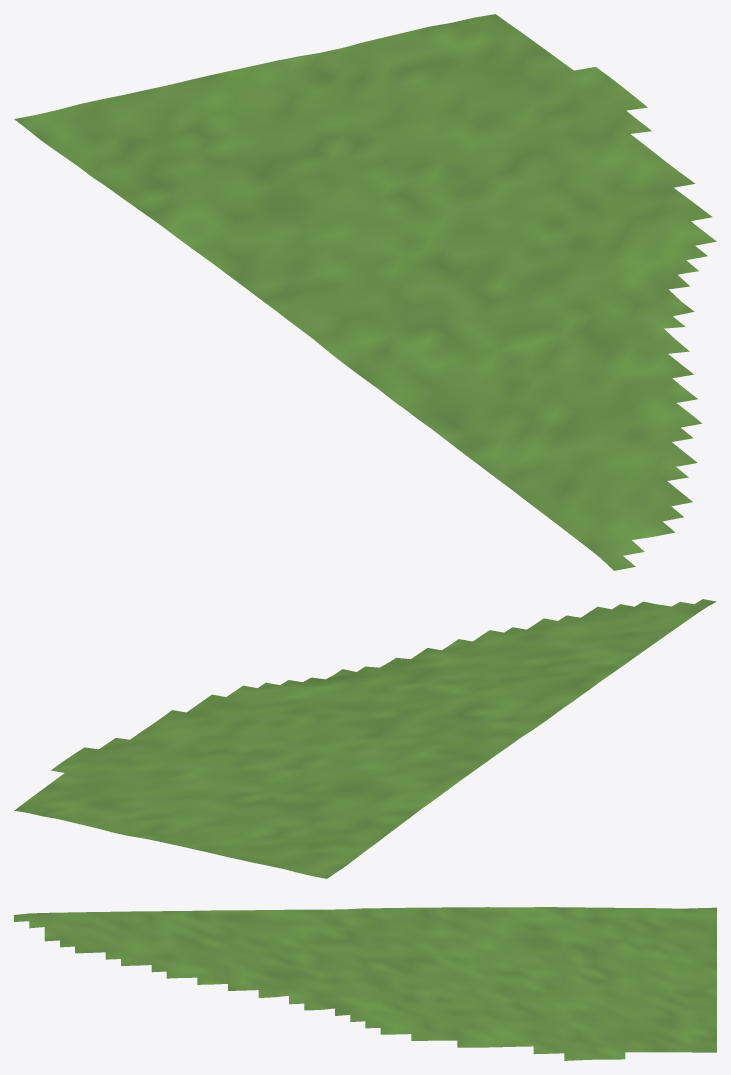
Rendered from lareunion-terrain-15.glb.
The picture shows the model from 3 angles, top to bottom: view 1: azimuth 30°, elevation 25°; view 2: azimuth 150°, elevation 25°; view 3: azimuth 270°, elevation 25°; orthographic projection. The views are drawn at different scales.
Visible parts, largest first — view 1: LaReunionRgeAltiTerrain_15; view 2: LaReunionRgeAltiTerrain_15; view 3: LaReunionRgeAltiTerrain_15.
Boxes of the visible parts, x1,y1,x2,y2 form: LaReunionRgeAltiTerrain_15: (14, 14, 716, 570); LaReunionRgeAltiTerrain_15: (14, 599, 716, 878); LaReunionRgeAltiTerrain_15: (14, 907, 716, 1060).
Size of the model in its own units: 7.92 by 0.2571 by 16.34.
